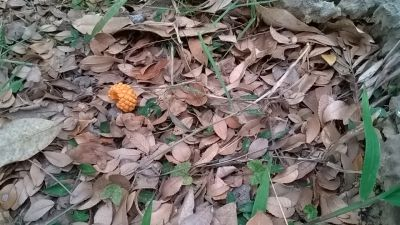eggs: (108, 82, 138, 112)
